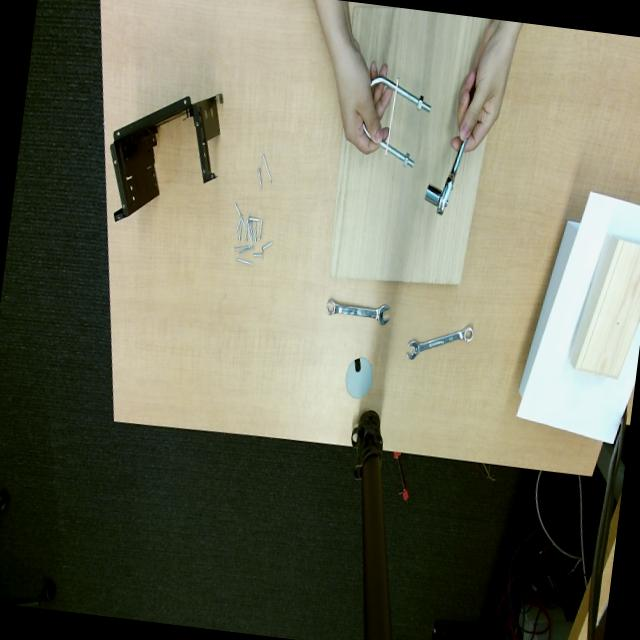wrench: (424, 139, 465, 213), (406, 325, 474, 359), (326, 299, 388, 325)
